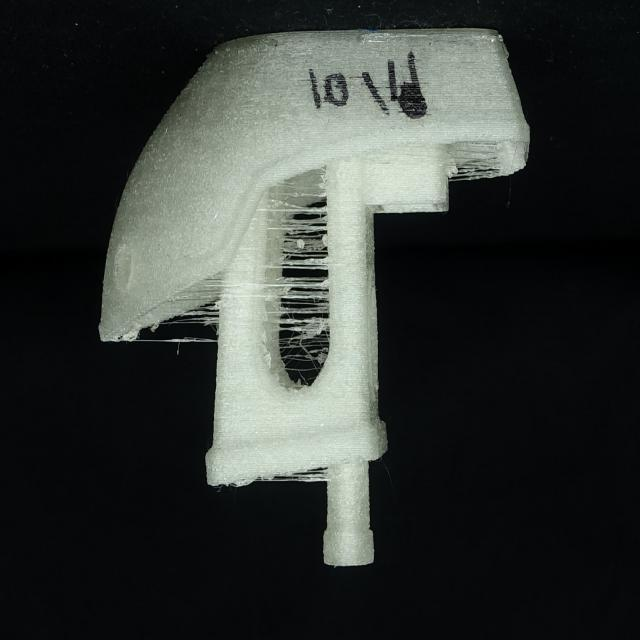Stringing: (270, 194, 327, 353), (172, 330, 216, 348), (284, 470, 328, 488), (198, 298, 218, 330)
